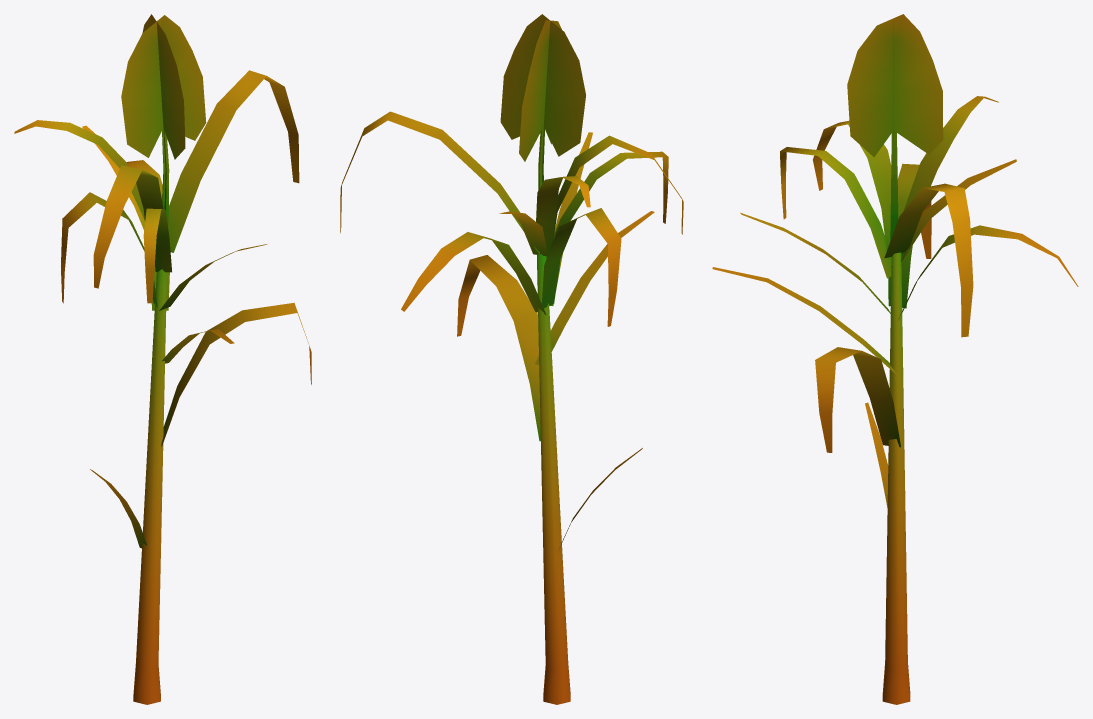
File: SM_SugarCanePlants_11.fbx
The picture shows the model from 3 angles, left to right: view 1: azimuth 30°, elevation 25°; view 2: azimuth 150°, elevation 25°; view 3: azimuth 270°, elevation 25°; orthographic projection.
Visible parts, largest first — view 1: SM_SugarCanePlants_11; view 2: SM_SugarCanePlants_11; view 3: SM_SugarCanePlants_11.
Part boxes in pixels (<box>): SM_SugarCanePlants_11: <box>14,14,311,704</box>; SM_SugarCanePlants_11: <box>340,14,683,704</box>; SM_SugarCanePlants_11: <box>712,14,1078,704</box>.
Size of the model in its own units: 0.7041 by 1.67 by 0.8041.
